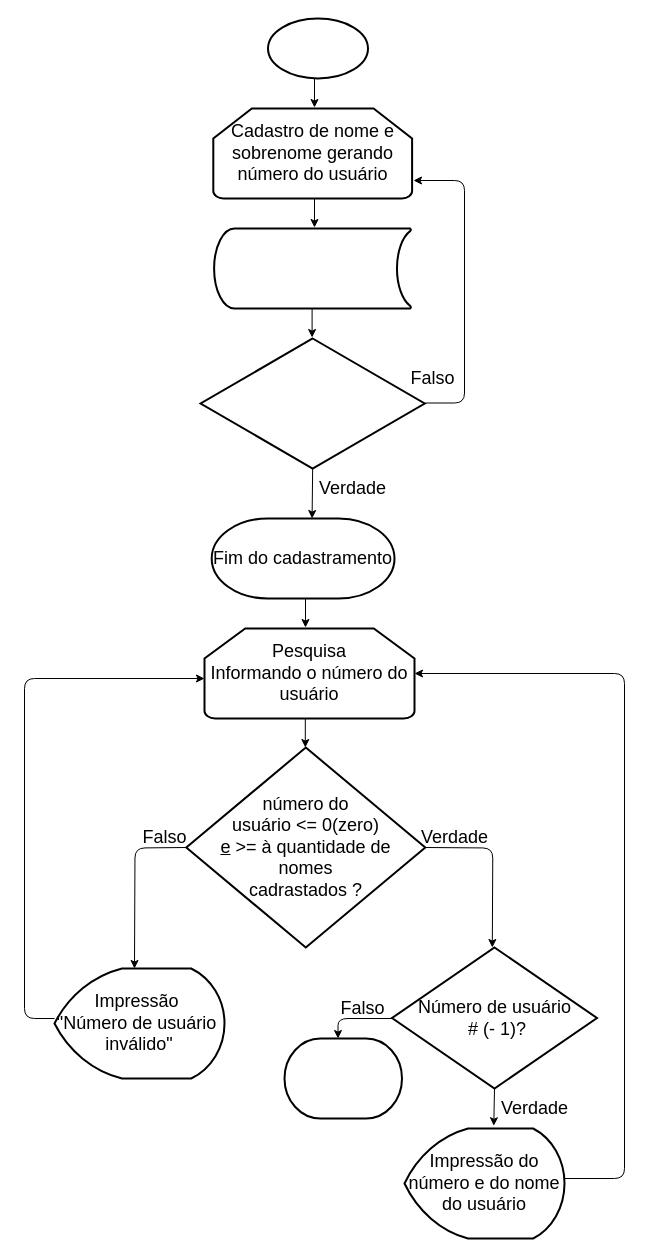
This 650x1256 diagram has some shape labels left out. Here are the shapes that lost their labels. From the top down, the centre of each, then its label:
At (317,48): "Início".
At (312,268): "Armazenando dados no Array".
At (312,403): "Número de usuário > limite establelecido ?".
At (342,1078): "Fim do programa".
